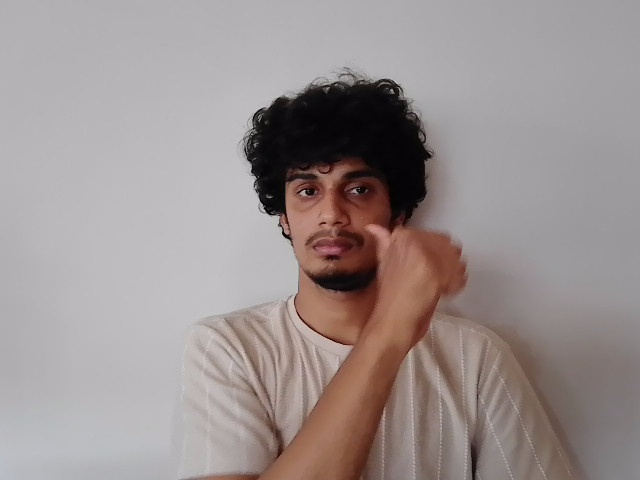drink: (277, 157, 472, 316)
